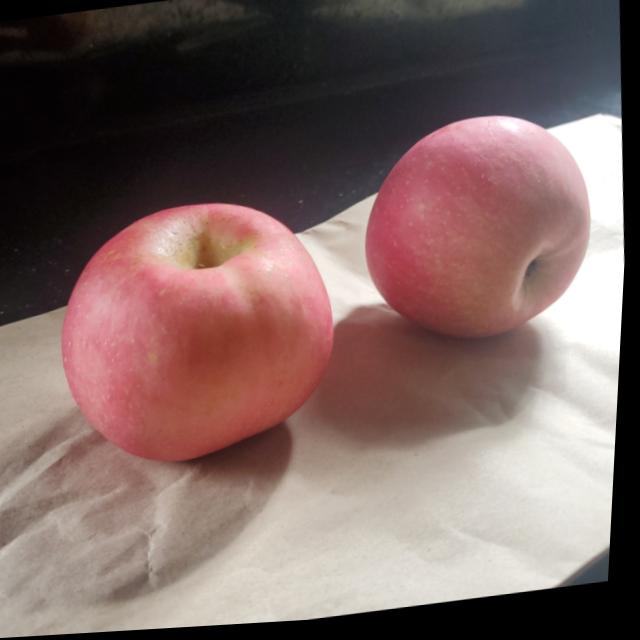apple: (57, 188, 352, 472), (355, 112, 604, 357)
